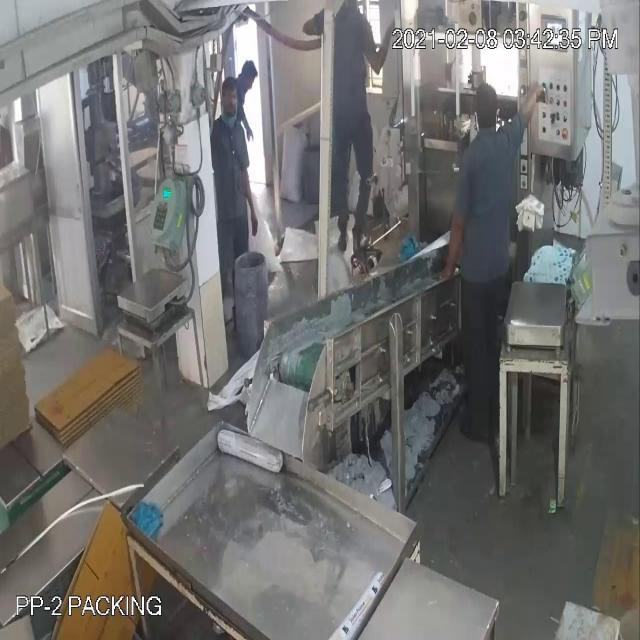No_Gloves: (24, 50, 530, 250)
